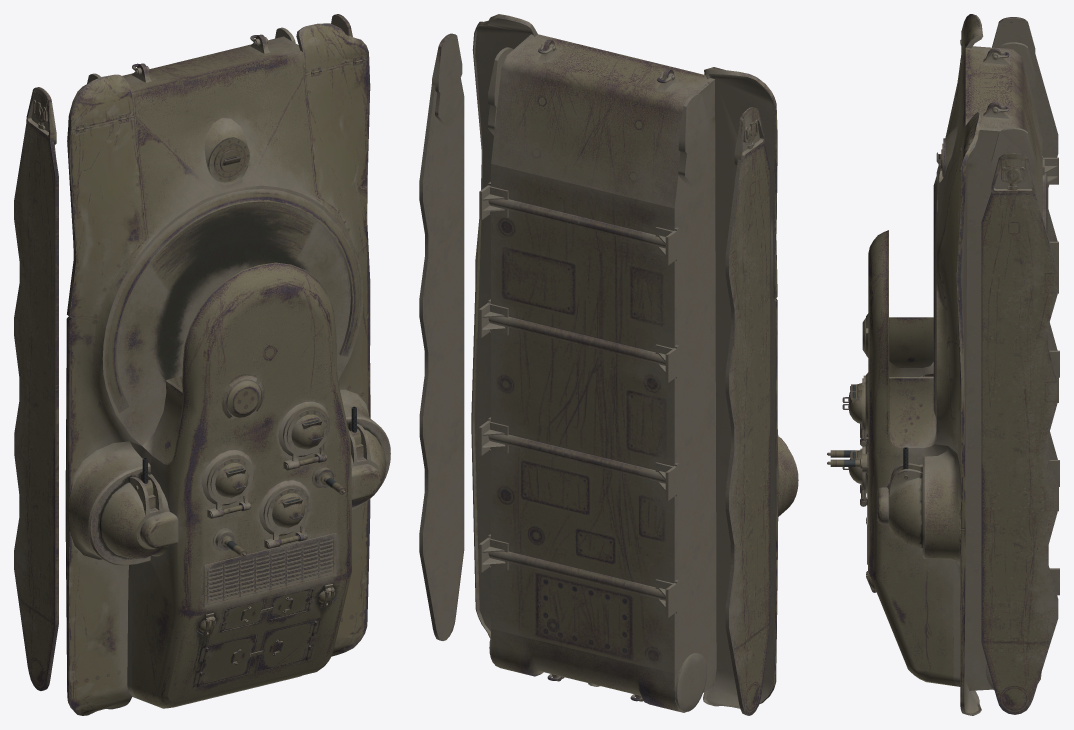
Rendered from Hull.glb.
3 renders of one model, left to right at view 1: azimuth 30°, elevation 25°; view 2: azimuth 150°, elevation 25°; view 3: azimuth 270°, elevation 25°, orthographic. The views are drawn at different scales.
Visible parts, largest first — view 1: set_0_group_0; view 2: set_0_group_0; view 3: set_0_group_0.
Boxes of the visible parts, x1,y1,x2,y2 form: set_0_group_0: (14,14,390,715); set_0_group_0: (419,14,798,715); set_0_group_0: (827,14,1059,715).
Bounding box in the file's own units: 3.71 × 7.33 × 2.61.
1 material, 1 textured.
